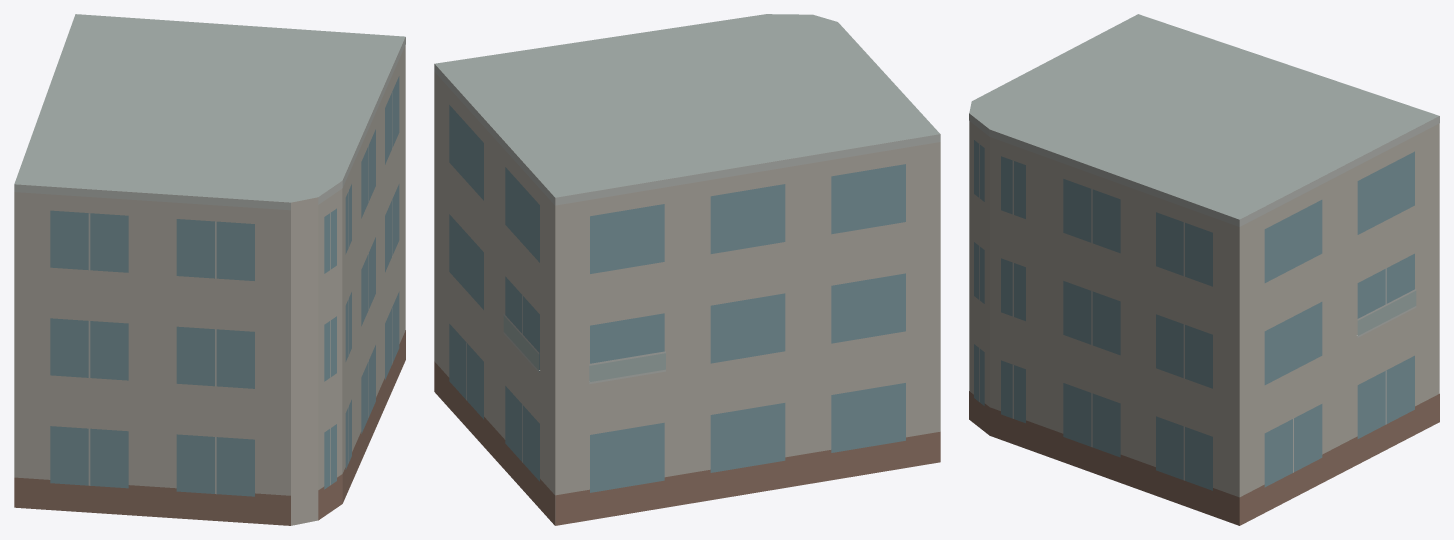
File: survey-upis-33022412.glb
3 renders of one model, left to right at view 1: azimuth 30°, elevation 25°; view 2: azimuth 150°, elevation 25°; view 3: azimuth 270°, elevation 25°, orthographic. The views are drawn at different scales.
Parts seen in each view (by area): view 1: survey-upis-33022412.tmp; view 2: survey-upis-33022412.tmp; view 3: survey-upis-33022412.tmp.
Boxes of the visible parts, box(x1,y1,x2,y2) form: survey-upis-33022412.tmp: box(14, 14, 405, 525); survey-upis-33022412.tmp: box(434, 14, 940, 525); survey-upis-33022412.tmp: box(969, 14, 1439, 525).
Size of the model in its own units: 14.7 by 10.2 by 14.21.
